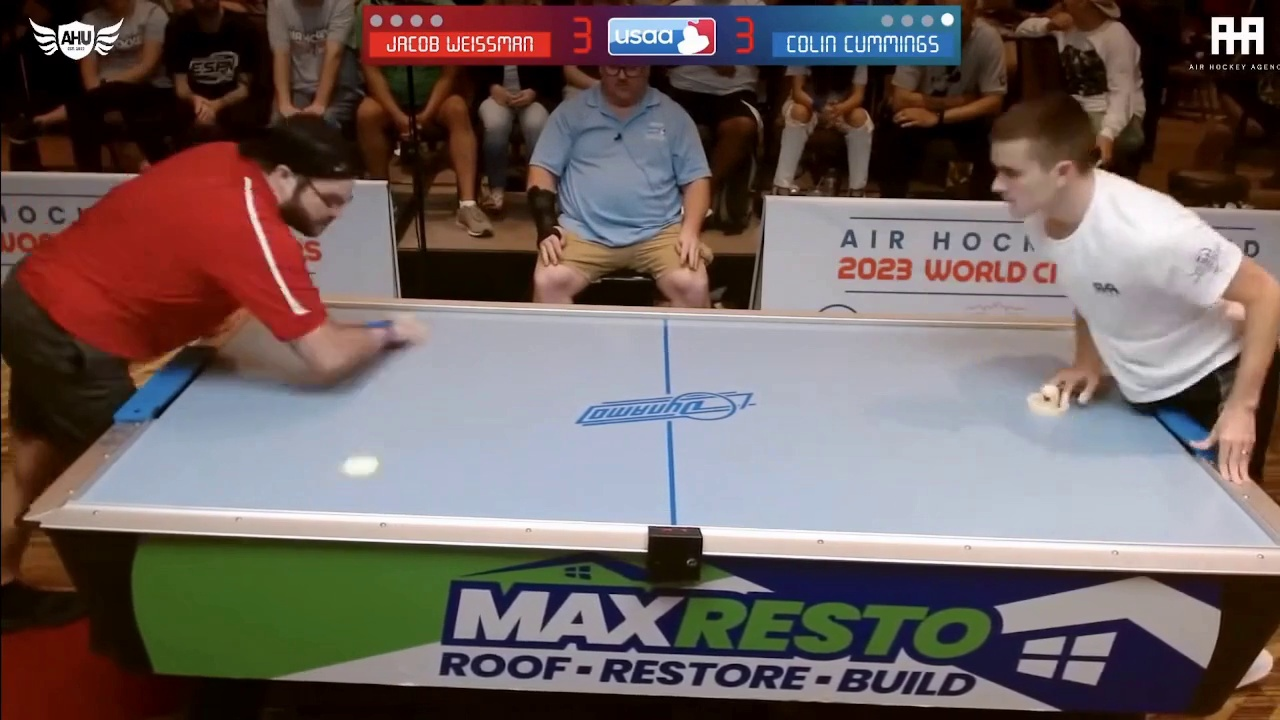player: (1023, 383, 1074, 414)
puck: (340, 454, 380, 478)
table: (76, 281, 1279, 566)
